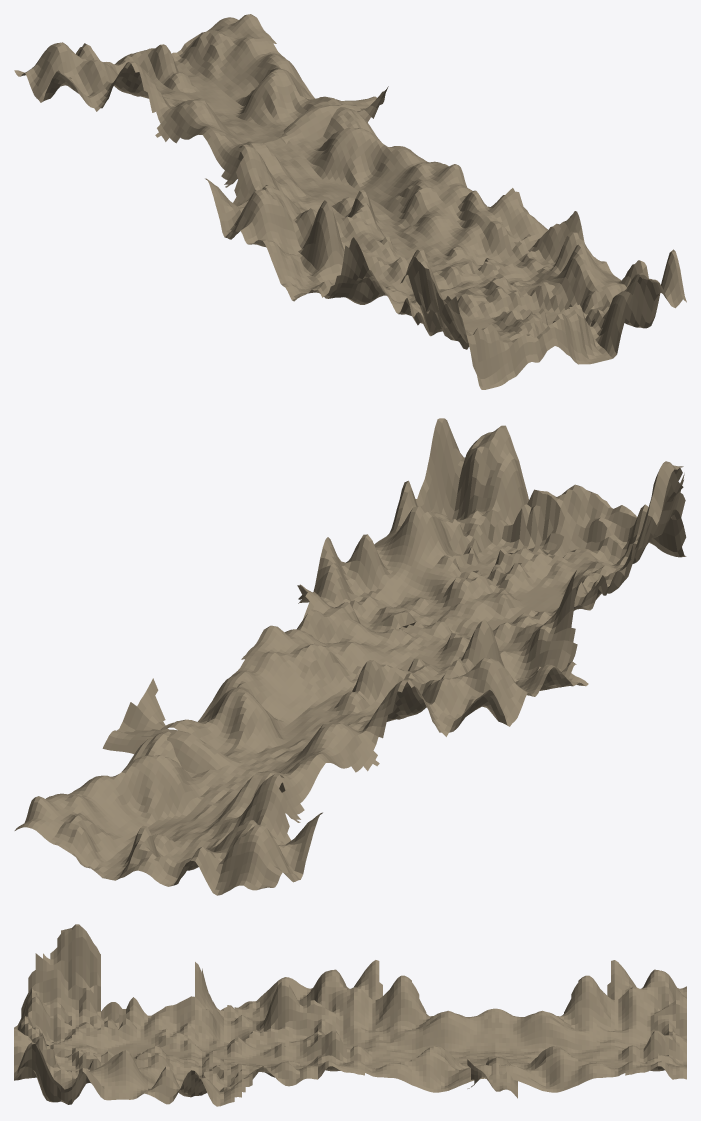
The model's file is Terrain2.FBX.
The picture shows the model from 3 angles, top to bottom: view 1: azimuth 30°, elevation 25°; view 2: azimuth 150°, elevation 25°; view 3: azimuth 270°, elevation 25°; orthographic projection. The views are drawn at different scales.
Visible parts, largest first — view 1: Plane002, Plane003, Object001; view 2: Plane002, Plane003, Object001; view 3: Plane002, Plane003, Object001.
Part boxes in pixels (bbox=[...]): Plane002: bbox=[203, 107, 686, 389]; Plane003: bbox=[14, 14, 346, 143]; Object001: bbox=[279, 86, 388, 143]; Plane002: bbox=[161, 418, 686, 772]; Plane003: bbox=[14, 731, 325, 895]; Object001: bbox=[102, 678, 241, 773]; Plane002: bbox=[14, 924, 495, 1106]; Plane003: bbox=[495, 960, 686, 1092]; Object001: bbox=[467, 1056, 517, 1098].
Size of the model in its own units: 51.97 by 25.81 by 146.
